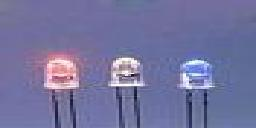LED: (108, 55, 148, 128), (44, 57, 80, 128), (178, 57, 214, 128)
